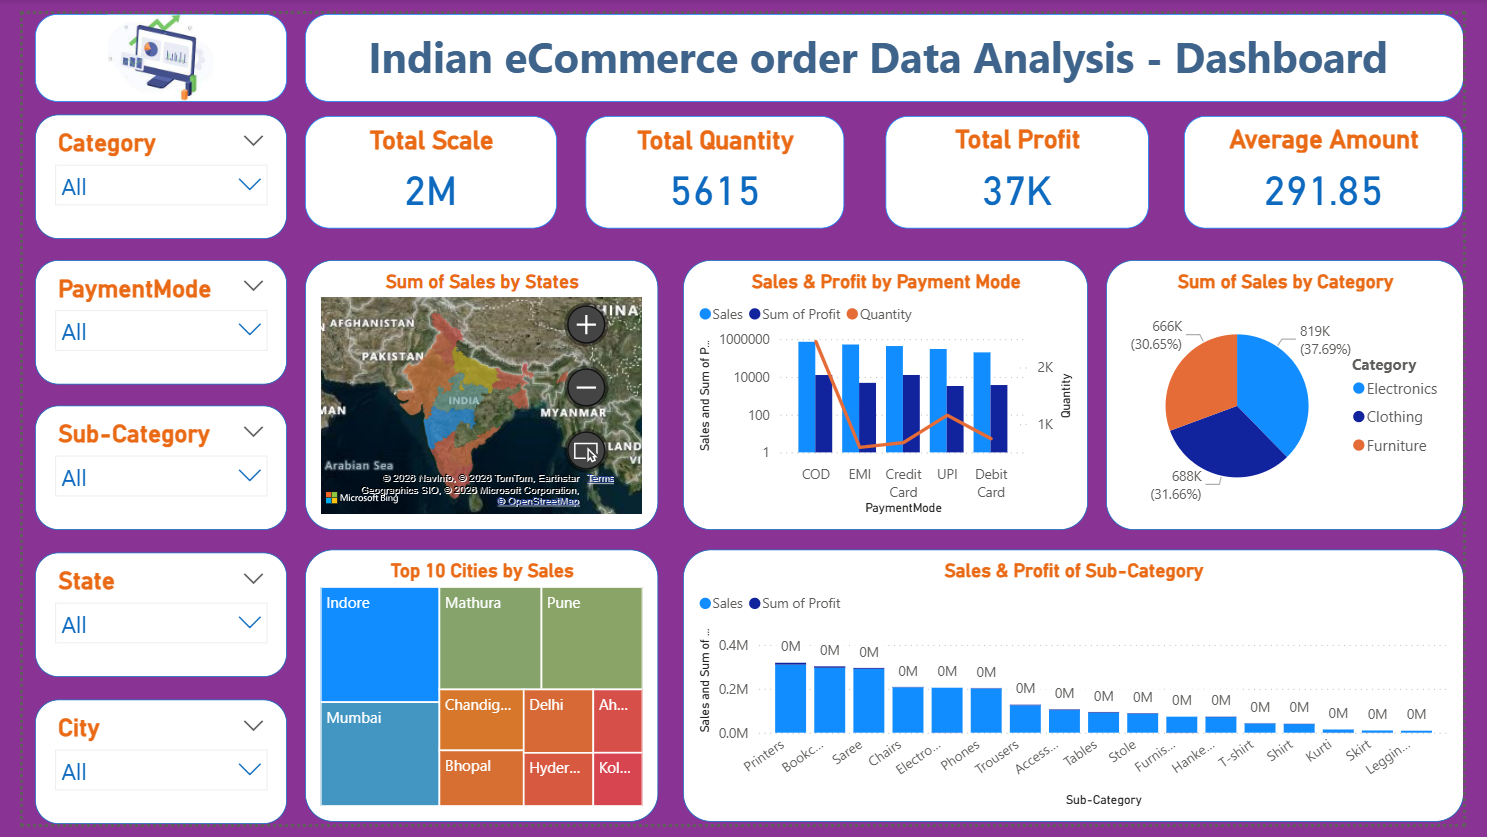

The page's visual inventory and layout, read from the dashboard file:
{"tool":"powerbi","page":{"name":"Page 1","canvas":[1280,720],"ordinal":0},"visuals":[{"type":"textbox","box":[250,0,1030,78],"z":0},{"type":"image","box":[10,0,224.3,77.7],"z":1000},{"type":"card","title":"Total Scale","fields":{"Values":["Sum(Details.Sales)"]},"box":[250,90,224,100],"z":2000},{"type":"card","title":"Total Quantity ","fields":{"Values":["Sum(Details.Quantity)"]},"box":[500,90,230,100],"z":3000},{"type":"card","title":"Total Profit","fields":{"Values":["Sum(Details.Profit)"]},"box":[766,90,234,100],"z":4000},{"type":"card","title":"Average Amount","fields":{"Values":["Avg(Details.Amount)"]},"box":[1032,90,248,100],"z":5000},{"type":"slicer","fields":{"Values":["Details.Category"]},"box":[10.6,89.3,224.1,110.5],"z":6000},{"type":"slicer","fields":{"Values":["Details.Sub-Category"]},"box":[10.6,348.3,224.1,110.5],"z":7000},{"type":"slicer","fields":{"Values":["Orders.State"]},"box":[10.6,478.5,224.1,110.5],"z":8000},{"type":"slicer","fields":{"Values":["Details.PaymentMode"]},"box":[10.6,218,224.1,110.5],"z":9000},{"type":"slicer","fields":{"Values":["Orders.City"]},"box":[10.6,608.7,224.1,110.5],"z":10000},{"type":"pieChart","fields":{"Category":["Details.Category"],"Y":["Sum(Details.Sales)"]},"box":[962,218,318,240],"z":11000},{"type":"lineClusteredColumnComboChart","title":"Sales & Profit by Payment Mode","fields":{"Category":["Details.PaymentMode"],"Y":["Sum(Details.Sales)","Sum(Details.Profit)"],"Y2":["Sum(Details.Quantity)"]},"box":[586,218,360,240],"z":12000},{"type":"lineStackedColumnComboChart","title":"Sales & Profit of Sub-Category ","fields":{"Category":["Details.Sub-Category"],"Y":["Sum(Details.Sales)","Sum(Details.Profit)"]},"box":[586,476,694,242],"z":13000},{"type":"filledMap","title":"Sum of Sales by States  ","fields":{"Category":["Orders.State"]},"box":[250,218,314,240],"z":14000},{"type":"treemap","title":"Top 10 Cities by Sales","fields":{"Group":["Orders.City"],"Values":["Sum(Details.Sales)"]},"box":[250,476,314,242],"z":15000}]}

Visuals, with their boxes in screenshot pixels (x1, y1, x2, y2), scaled from the page's 1280x720 canvas onto the 1487x837 screenshot:
textbox: 290,0,1486,91
image: 12,0,272,90
"Total Scale" card: 290,105,551,221
"Total Quantity " card: 581,105,848,221
"Total Profit" card: 890,105,1162,221
"Average Amount" card: 1199,105,1486,221
slicer - Details.Category: 12,104,273,232
slicer - Details.Sub-Category: 12,405,273,533
slicer - Orders.State: 12,556,273,685
slicer - Details.PaymentMode: 12,253,273,382
slicer - Orders.City: 12,708,273,836
pieChart - Details.Category x Sum(Details.Sales): 1118,253,1486,532
"Sales & Profit by Payment Mode" lineClusteredColumnComboChart: 681,253,1099,532
"Sales & Profit of Sub-Category " lineStackedColumnComboChart: 681,553,1486,835
"Sum of Sales by States  " filledMap: 290,253,655,532
"Top 10 Cities by Sales" treemap: 290,553,655,835
